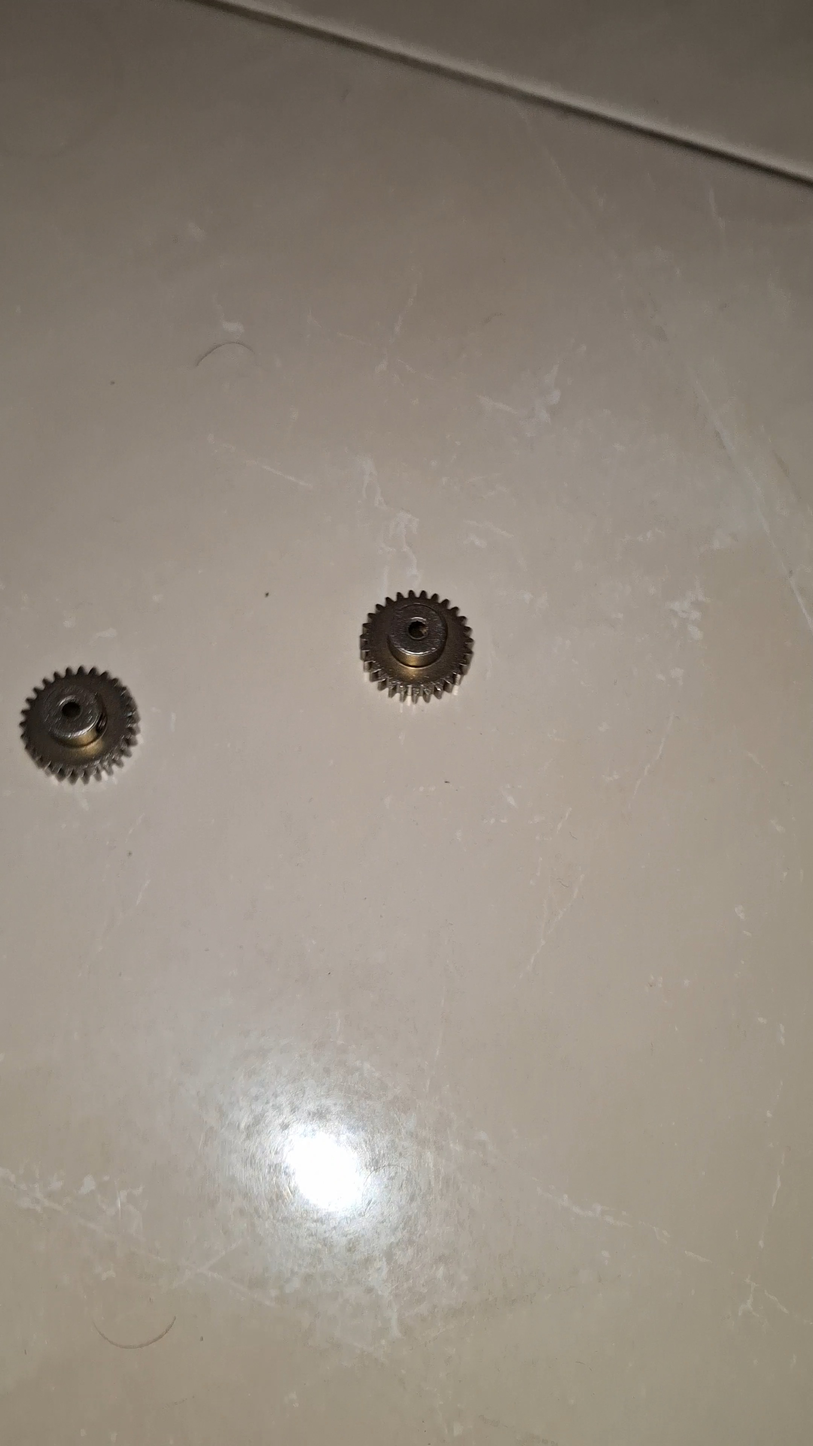spur gear: (21, 667, 138, 781), (360, 591, 472, 700)
